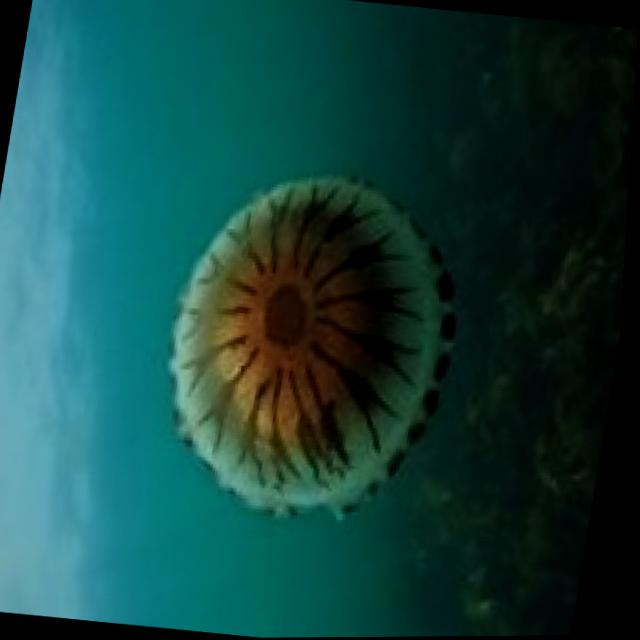Box-jellyfish: (144, 155, 486, 533)
